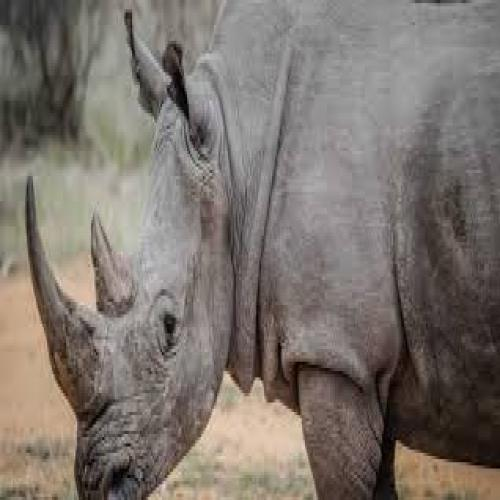rhino-endangered: (24, 7, 496, 499)
